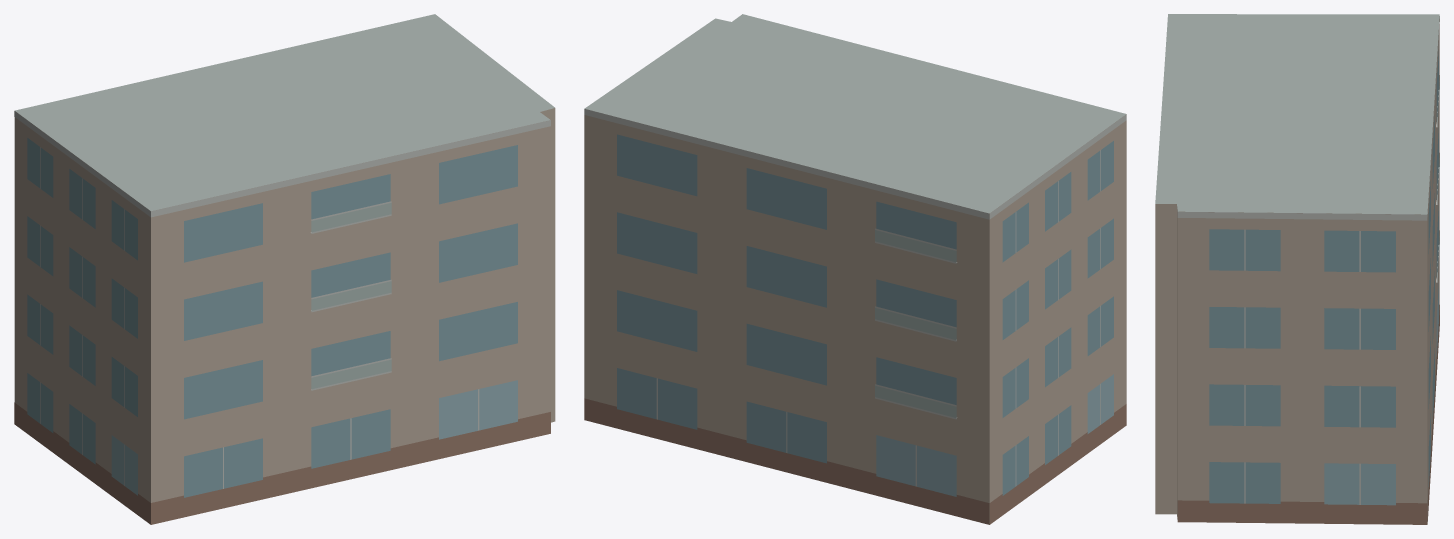
The model's file is survey-upis-32878065.glb.
3 renders of one model, left to right at view 1: azimuth 30°, elevation 25°; view 2: azimuth 150°, elevation 25°; view 3: azimuth 270°, elevation 25°, orthographic.
Visible parts, largest first — view 1: survey-upis-32878065.tmp; view 2: survey-upis-32878065.tmp; view 3: survey-upis-32878065.tmp.
Boxes of the visible parts, x1,y1,x2,y2 form: survey-upis-32878065.tmp: [14, 14, 555, 524]; survey-upis-32878065.tmp: [584, 14, 1126, 524]; survey-upis-32878065.tmp: [1155, 14, 1439, 524].
Size of the model in its own units: 17.12 by 12.35 by 10.27.
